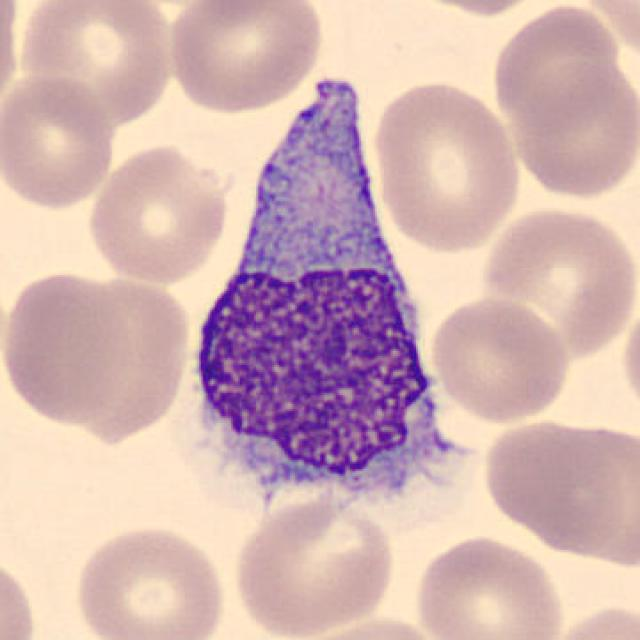Monocyte: (174, 63, 453, 540)
RBC: (368, 76, 524, 256), (476, 201, 638, 361), (228, 488, 398, 638), (59, 270, 197, 444), (82, 140, 235, 288), (0, 264, 133, 428), (12, 0, 179, 130), (478, 416, 631, 554), (505, 56, 640, 203), (70, 520, 230, 640), (427, 293, 572, 425), (163, 0, 327, 116), (489, 0, 627, 136), (409, 530, 569, 640), (0, 73, 119, 214), (286, 612, 450, 640), (574, 0, 640, 65), (544, 599, 638, 640), (0, 550, 41, 640), (617, 291, 640, 425), (0, 0, 25, 122), (394, 0, 554, 18)
